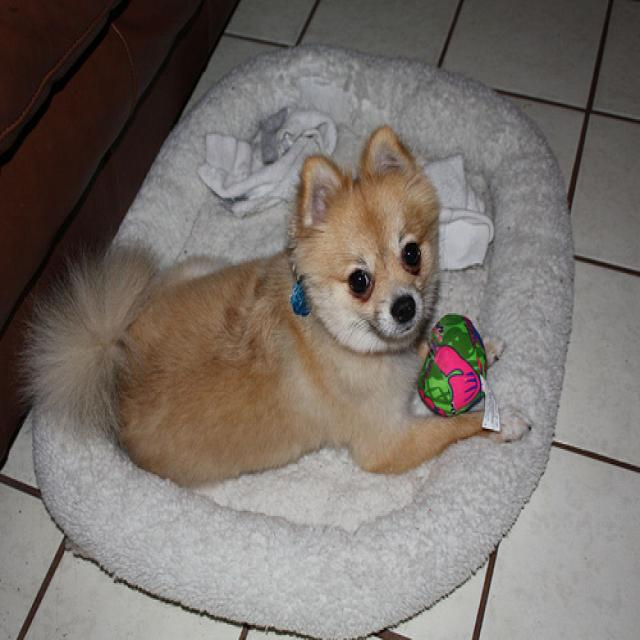dog-pomeranian: (15, 117, 536, 494)
